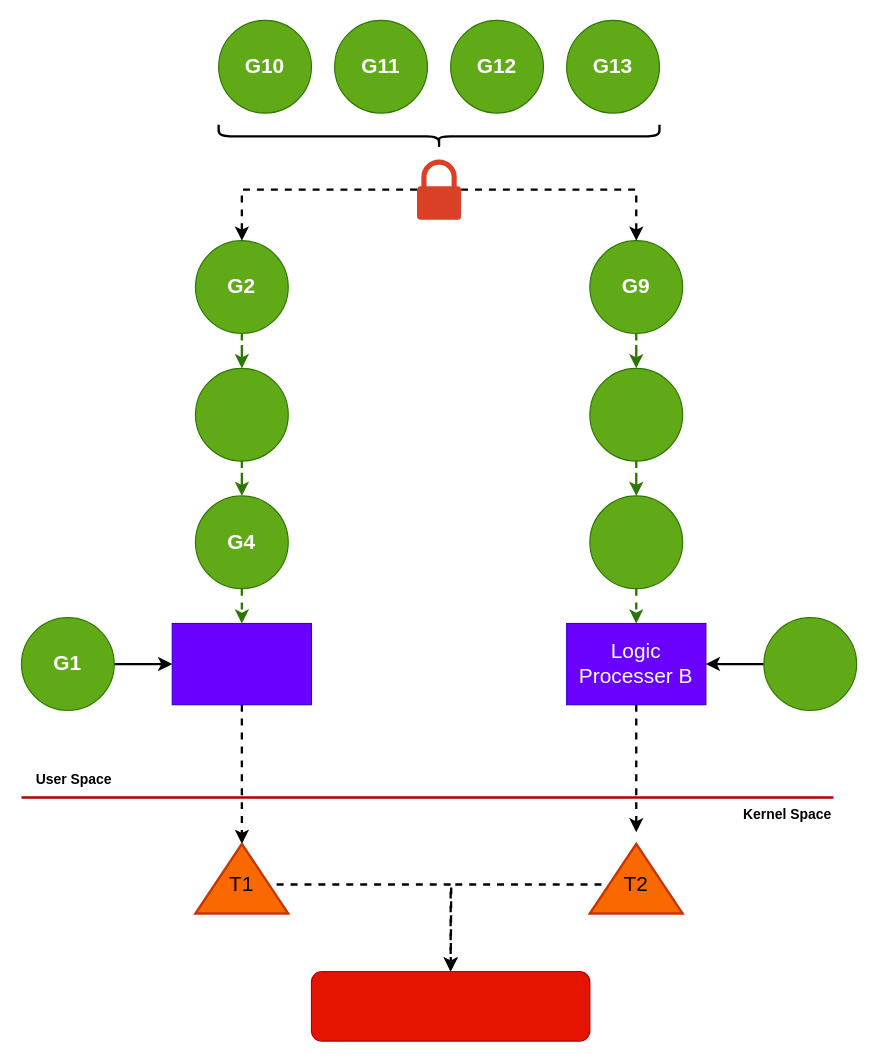
This 877x1061 diagram has some shape labels left out. Each missing label, with the centre of its shape:
2 CPU Scheduler: the point at 450,1005
G3: the point at 241,414
G6: the point at 810,663
G7: the point at 636,542
G8: the point at 636,414
Logic Processer A: the point at 241,663
